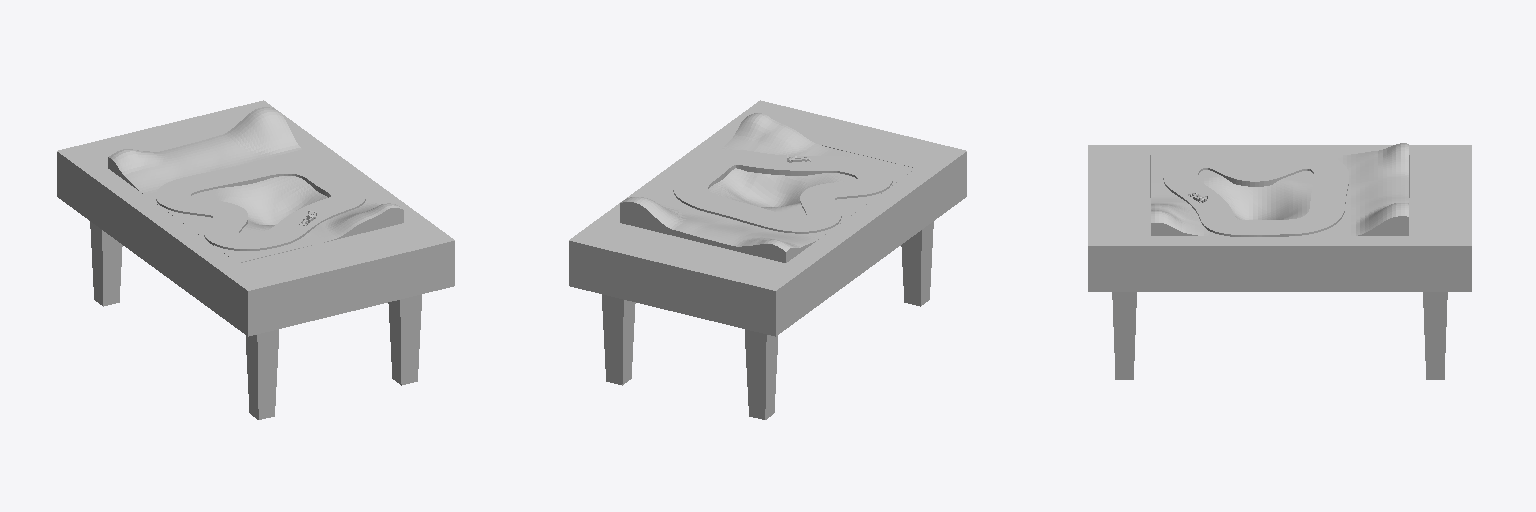
File: NewestTisch45.obj
The picture shows the model from 3 angles: view 1: azimuth 30°, elevation 25°; view 2: azimuth 150°, elevation 25°; view 3: azimuth 270°, elevation 25°; orthographic projection.
Visible parts, largest first — view 1: Tischplatte_wood_table_001, Landschaft_aerial_grass_rock, off, Bein1_wood_table_001, Bein4_wood_table_001.003, Bein3_wood_table_001.002; view 2: Tischplatte_wood_table_001, Landschaft_aerial_grass_rock, off, Bein2_wood_table_001.001, Bein3_wood_table_001.002, Bein4_wood_table_001.003; view 3: Tischplatte_wood_table_001, Landschaft_aerial_grass_rock, off, Bein1_wood_table_001, Bein2_wood_table_001.001.
Part boxes in pixels (x1,y1,x2,y2): Tischplatte_wood_table_001: (57, 100, 454, 336); Landschaft_aerial_grass_rock: (108, 107, 403, 262); off: (156, 159, 365, 250); Bein1_wood_table_001: (388, 294, 421, 385); Bein4_wood_table_001.003: (246, 329, 278, 419); Bein3_wood_table_001.002: (90, 221, 122, 306); Tischplatte_wood_table_001: (569, 100, 966, 336); Landschaft_aerial_grass_rock: (620, 113, 915, 262); off: (673, 150, 892, 233); Bein2_wood_table_001.001: (602, 294, 635, 385); Bein3_wood_table_001.002: (745, 329, 777, 419); Bein4_wood_table_001.003: (901, 221, 933, 306); Tischplatte_wood_table_001: (1088, 145, 1471, 291); Landschaft_aerial_grass_rock: (1151, 143, 1408, 235); off: (1163, 153, 1348, 236); Bein1_wood_table_001: (1112, 292, 1136, 379); Bein2_wood_table_001.001: (1423, 292, 1447, 379).
Size of the model in its own units: 5 by 3.91 by 8.